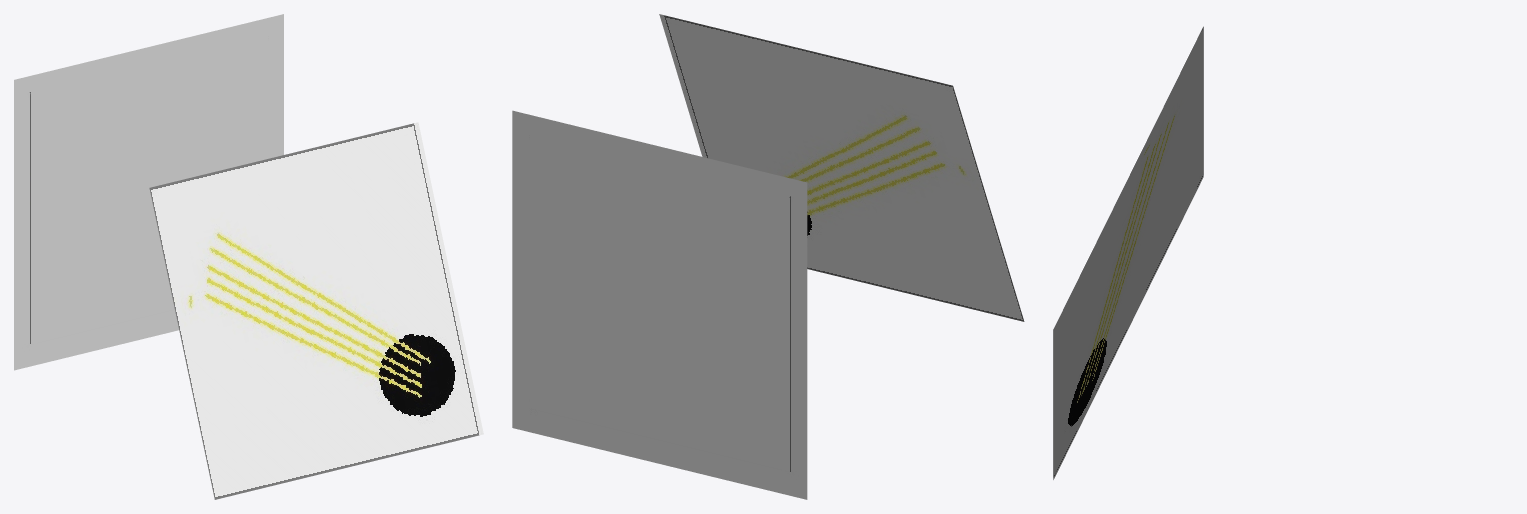
Rendered from Disgrees light.glb.
3 views of the same model, side by side, from view 1: azimuth 30°, elevation 25°; view 2: azimuth 150°, elevation 25°; view 3: azimuth 270°, elevation 25° (orthographic). The views are drawn at different scales.
Visible parts, largest first — view 1: mesh_id29, mesh_id1; view 2: mesh_id1, mesh_id29; view 3: mesh_id29.
Part boxes in pixels (box(x1,y1,x2,y2)): mesh_id29: box(149, 122, 483, 499); mesh_id1: box(14, 14, 283, 370); mesh_id1: box(512, 110, 807, 499); mesh_id29: box(659, 14, 1024, 321); mesh_id29: box(1053, 26, 1203, 479).
Bounding box in the file's own units: 0.28 × 0.288 × 0.3587.
Materials: 2 (2 with a texture image).
